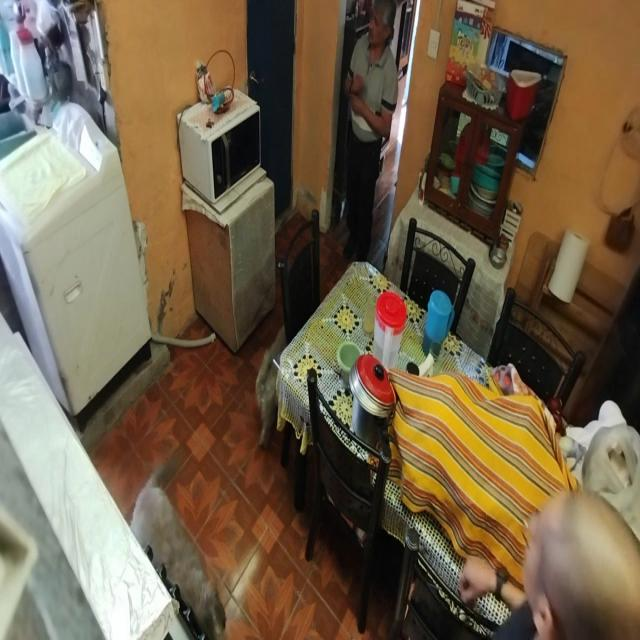adult: (340, 0, 399, 267)
